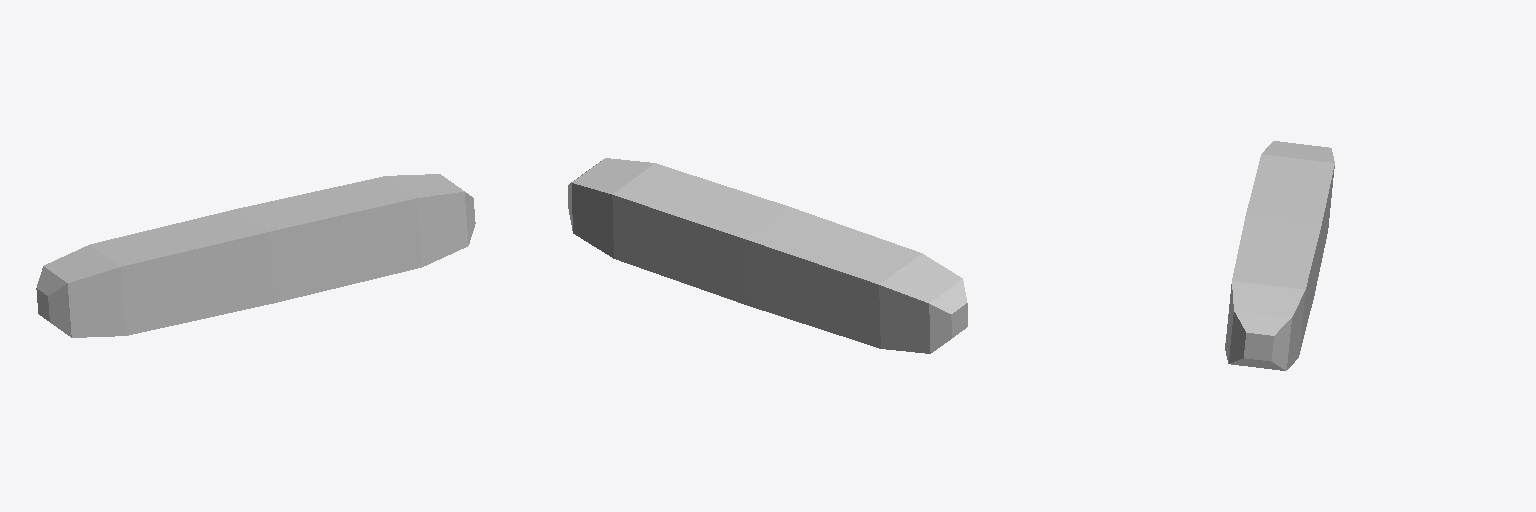
The model's file is RightHand.obj.
The picture shows the model from 3 angles: view 1: azimuth 30°, elevation 25°; view 2: azimuth 150°, elevation 25°; view 3: azimuth 270°, elevation 25°; orthographic projection.
Parts seen in each view (by area): view 1: ../rami/model/RightHand; view 2: ../rami/model/RightHand; view 3: ../rami/model/RightHand.
Boxes of the visible parts, x1,y1,x2,y2 form: ../rami/model/RightHand: [36, 174, 475, 337]; ../rami/model/RightHand: [568, 158, 967, 353]; ../rami/model/RightHand: [1225, 141, 1334, 370].
Bounding box in the file's own units: 0.1677 × 0.033 × 0.0392.